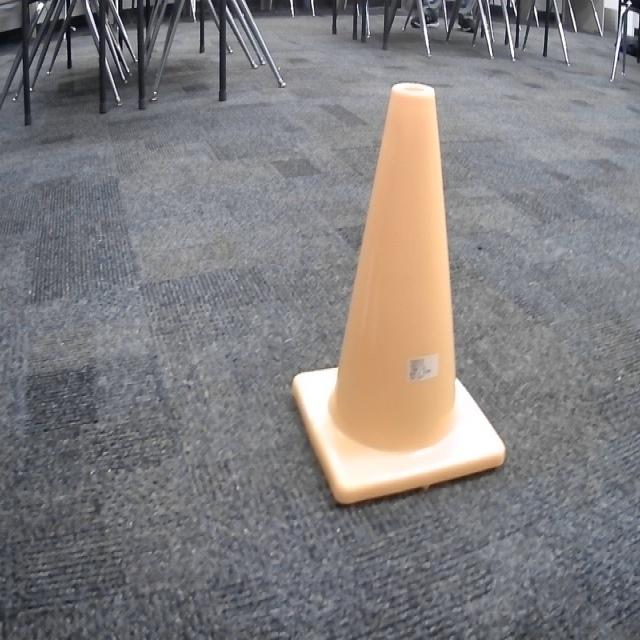cone: (294, 80, 506, 504)
